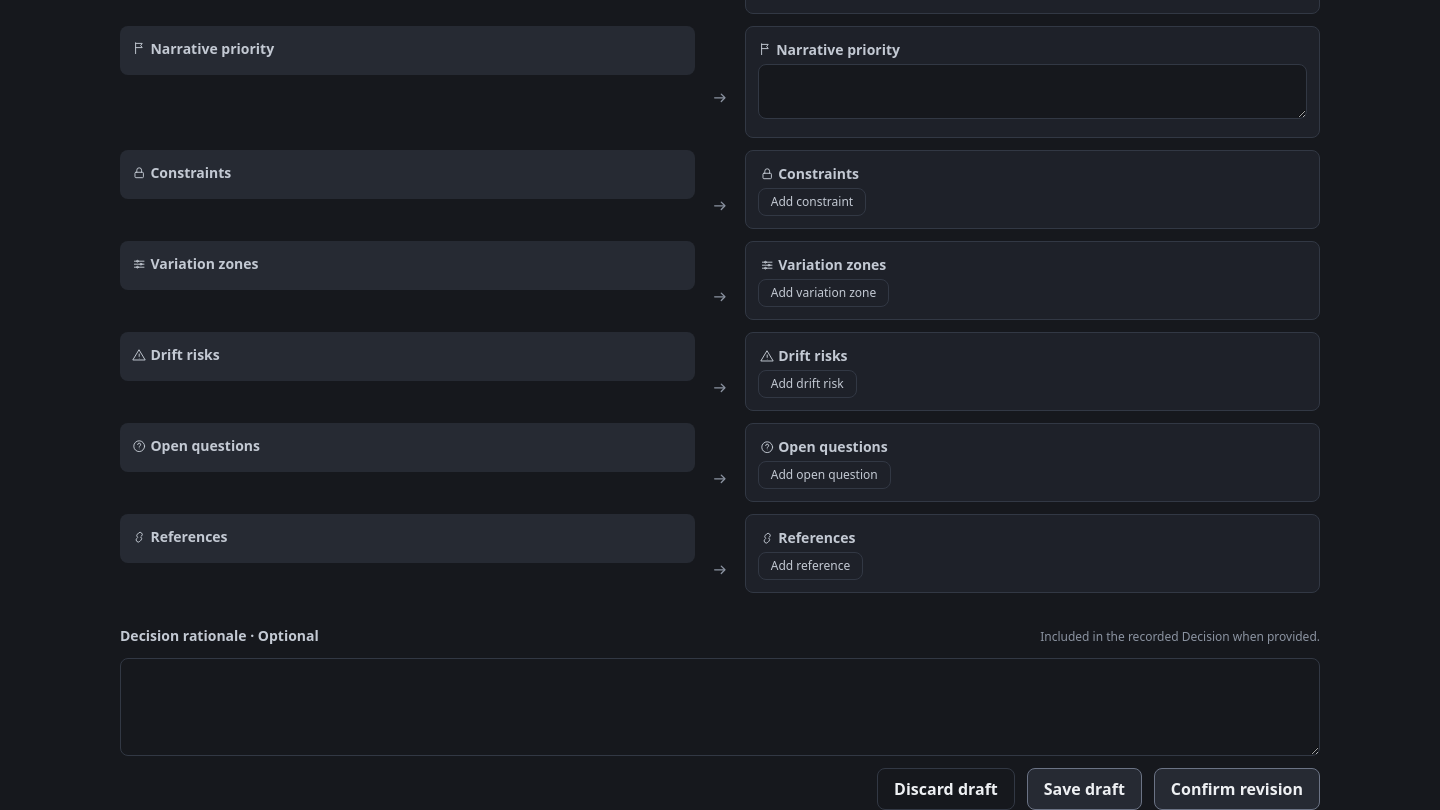
it: CoreAnchorRevisionEditor › shows a conflict message with a single Reload action instead of pretending success
The image size is (1440, 810).
(page scrolled)
Click the button "Confirm revision". click: (1237, 790)
box: [1154, 768, 1320, 809]
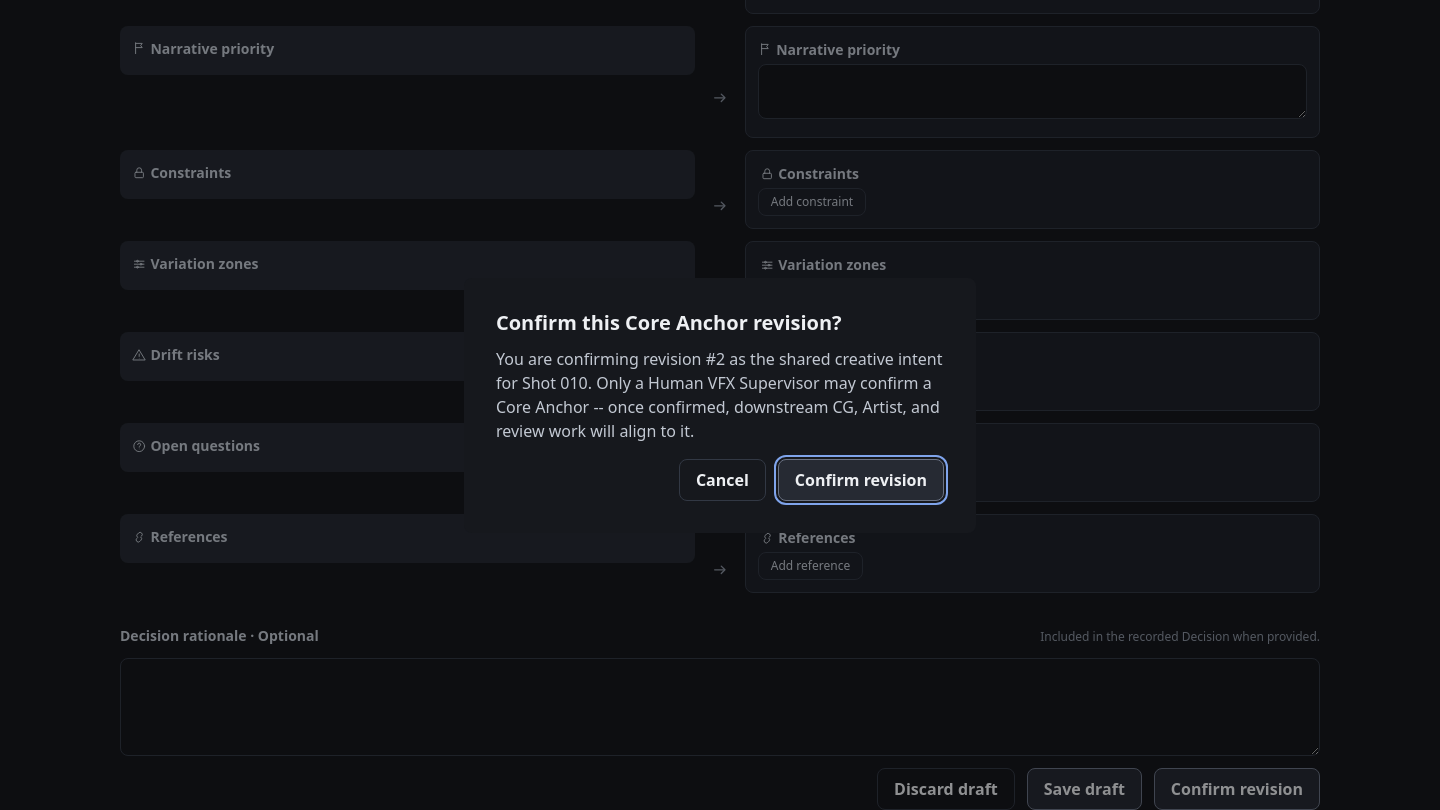
Click the button "Confirm revision". click: (861, 480)
box: [778, 458, 944, 500]
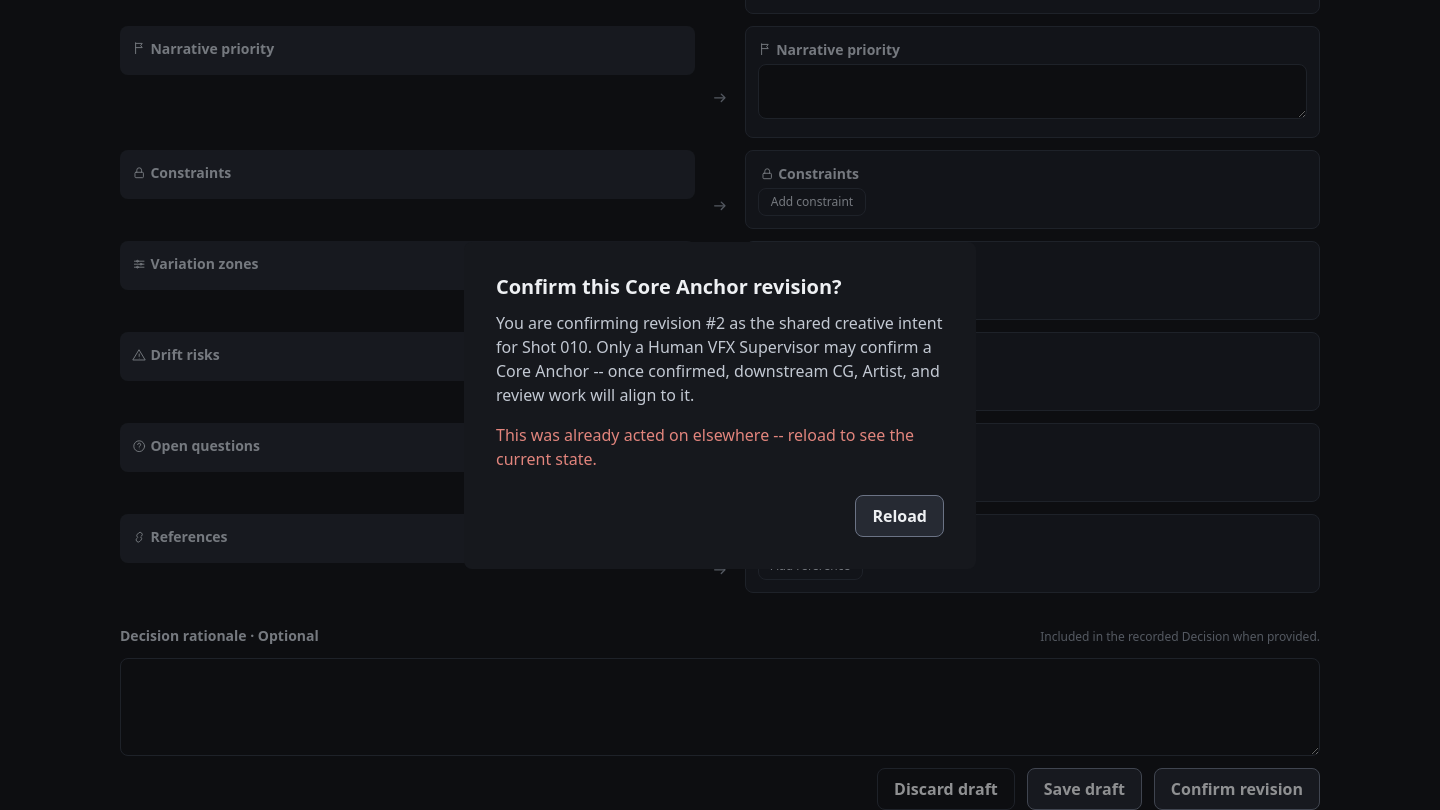
Check: the text "This was already acted on elsewhere -- reload to see the current state." is shown, box [496, 422, 944, 470]
Check: the button "Reload" is shown, box [855, 494, 944, 536]
